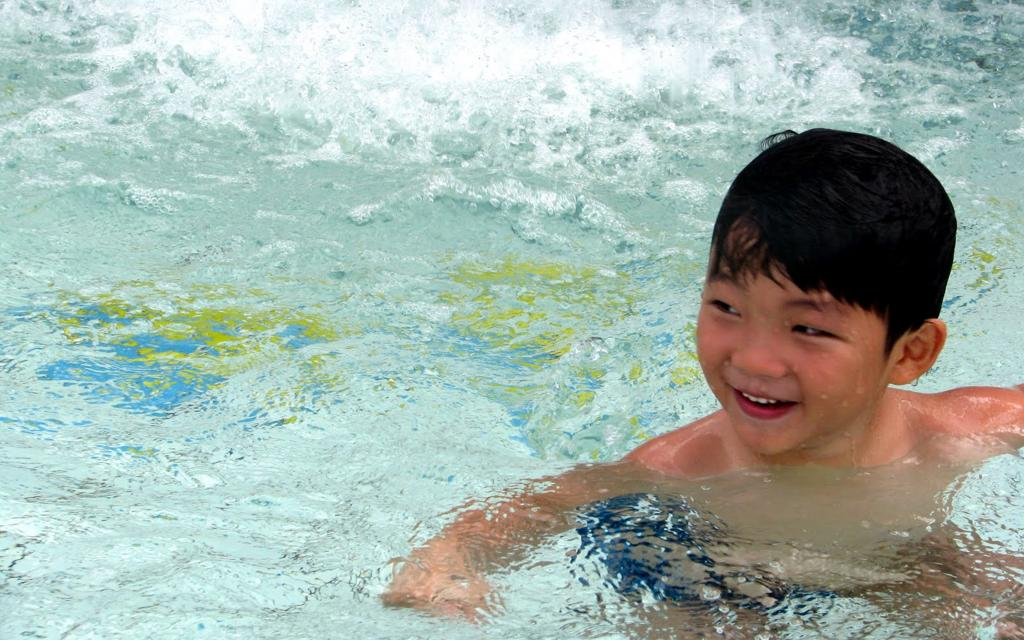face: (694, 246, 872, 450)
